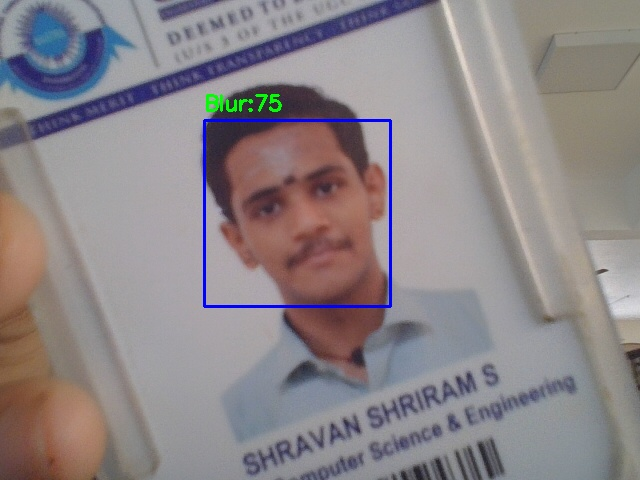fake: (204, 120, 390, 306)
